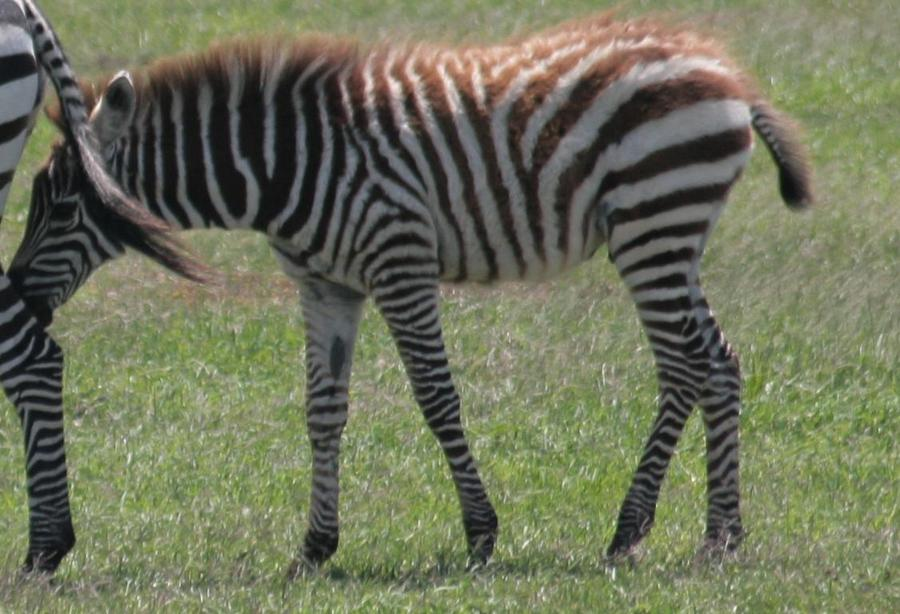zebra_plains: (206, 5, 782, 353)
